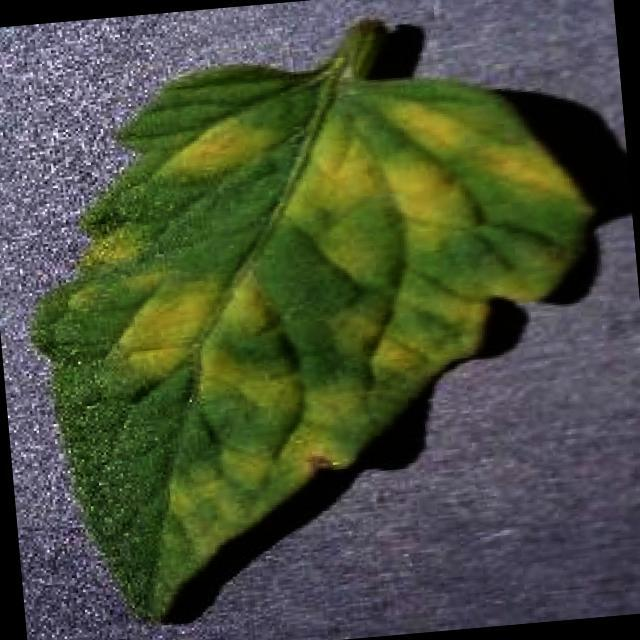Tomato mold leaf: (8, 32, 622, 636)
